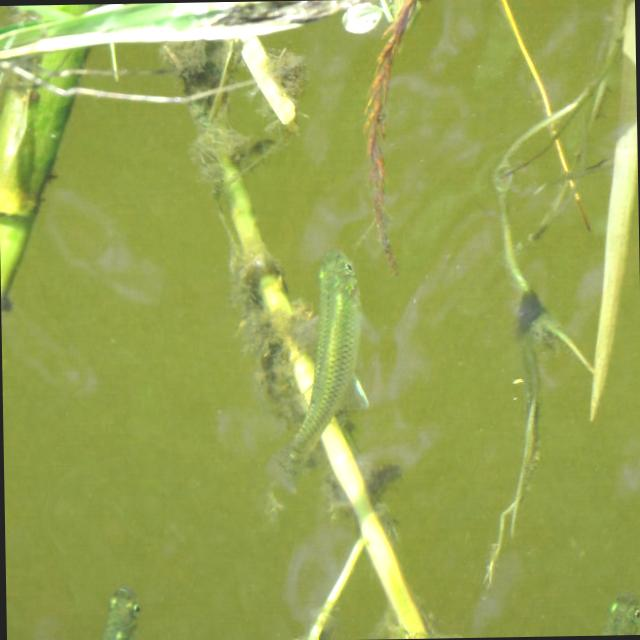Sivrisinek Baligi: (264, 248, 358, 493), (79, 580, 146, 640), (581, 592, 640, 635)
